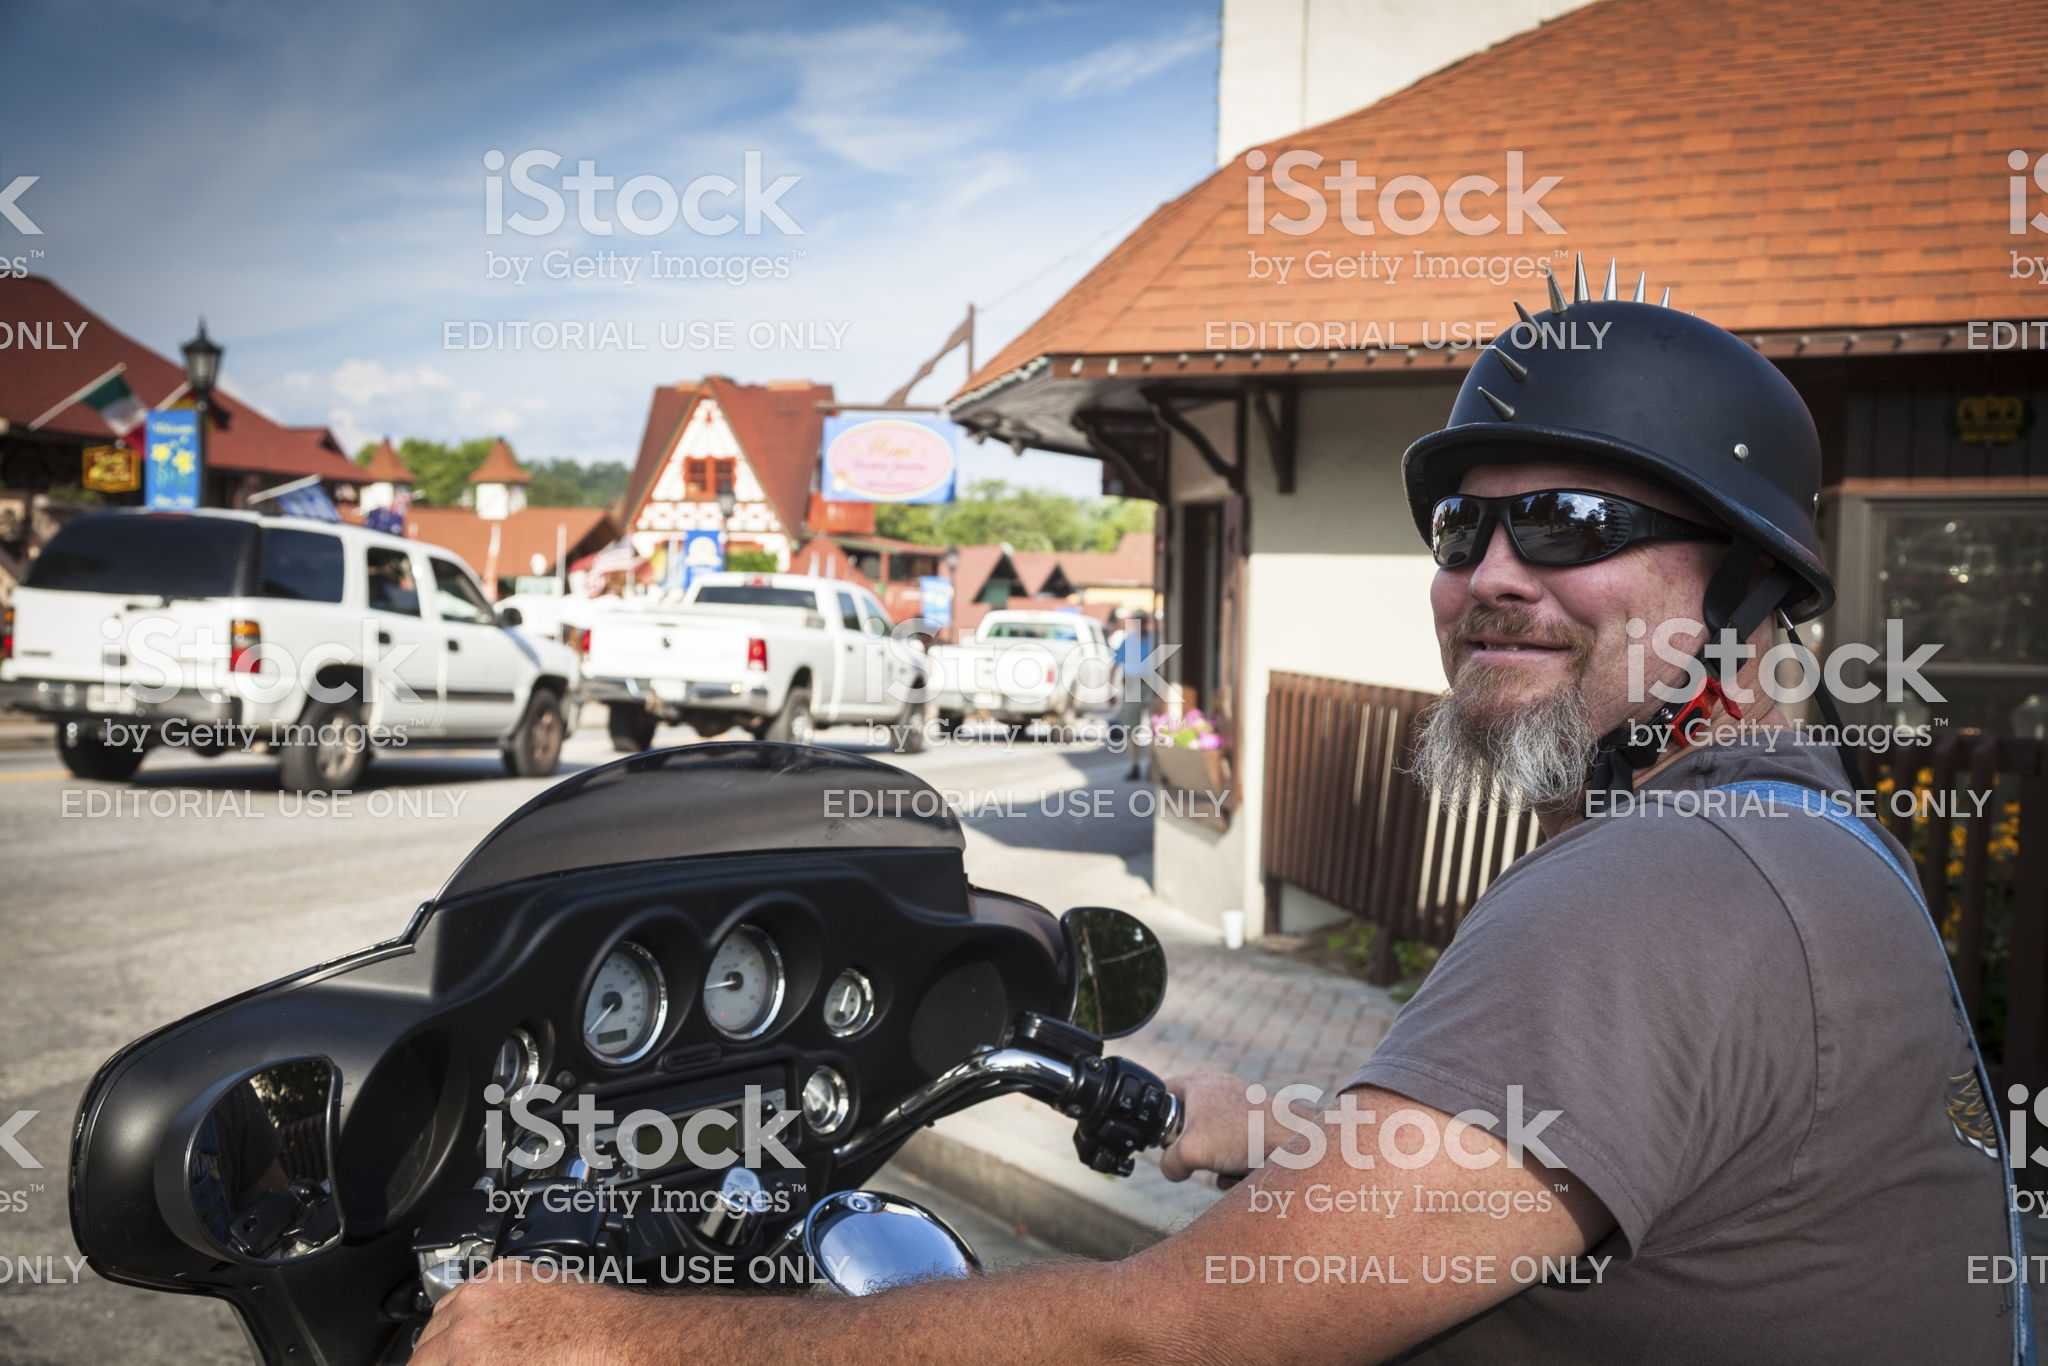helmet: (1446, 293, 1803, 553)
